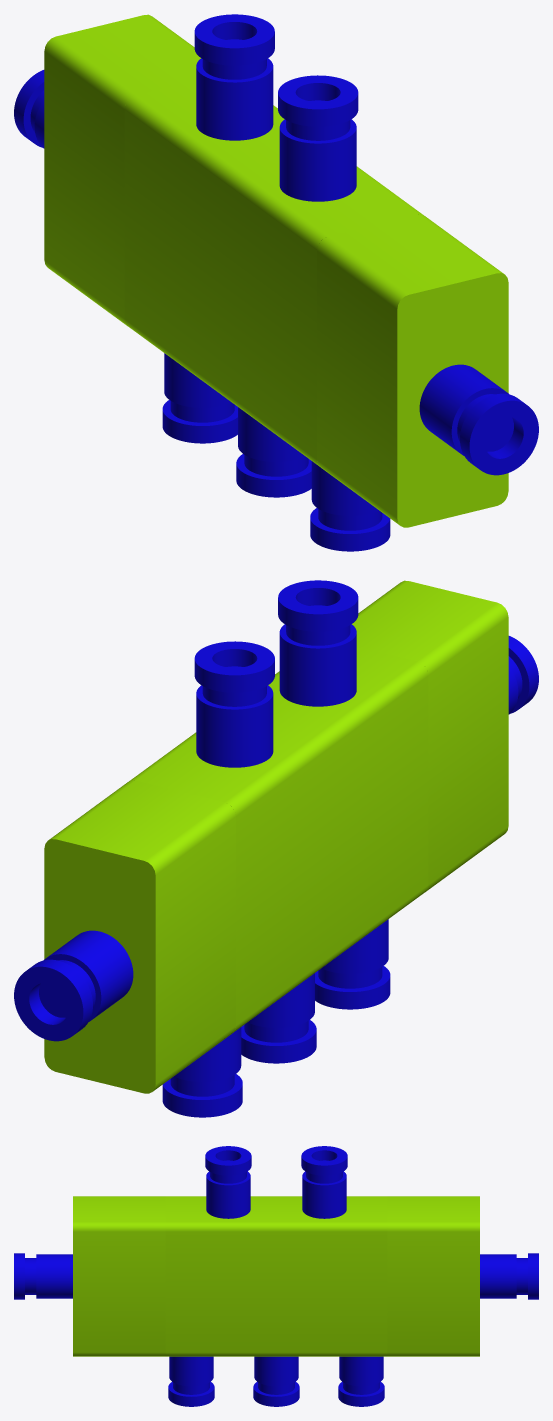
The model's file is ValveA.fbx.
The picture shows the model from 3 angles, top to bottom: view 1: azimuth 30°, elevation 25°; view 2: azimuth 150°, elevation 25°; view 3: azimuth 270°, elevation 25°; orthographic projection. The views are drawn at different scales.
Parts seen in each view (by area): view 1: Body, RacorE, RacorD, Racor2, RacorA, RacorC, RacorB, Racor1; view 2: Body, RacorD, RacorE, Racor1, RacorC, RacorA, RacorB, Racor2; view 3: Body, RacorE, RacorD, Racor1, Racor2, RacorA, RacorC, RacorB.
Part boxes in pixels (<box>): Body: <box>44,14,508,527</box>; RacorE: <box>194,14,274,140</box>; RacorD: <box>278,75,358,201</box>; Racor2: <box>419,364,538,475</box>; RacorA: <box>310,461,390,551</box>; RacorC: <box>162,353,237,443</box>; RacorB: <box>236,407,311,497</box>; Racor1: <box>14,70,44,148</box>; Body: <box>44,580,508,1093</box>; RacorD: <box>278,580,358,706</box>; RacorE: <box>194,641,274,767</box>; Racor1: <box>14,930,133,1041</box>; RacorC: <box>162,1027,242,1117</box>; RacorA: <box>315,919,390,1009</box>; RacorB: <box>241,973,316,1063</box>; Racor2: <box>508,636,538,714</box>; Body: <box>73,1196,479,1356</box>; RacorE: <box>301,1146,347,1218</box>; RacorD: <box>205,1146,251,1218</box>; Racor1: <box>480,1253,538,1299</box>; Racor2: <box>14,1253,72,1299</box>; RacorA: <box>168,1356,214,1406</box>; RacorC: <box>338,1356,384,1406</box>; RacorB: <box>253,1356,299,1406</box>.
Size of the model in its own units: 0.2 by 0.72 by 1.42.
